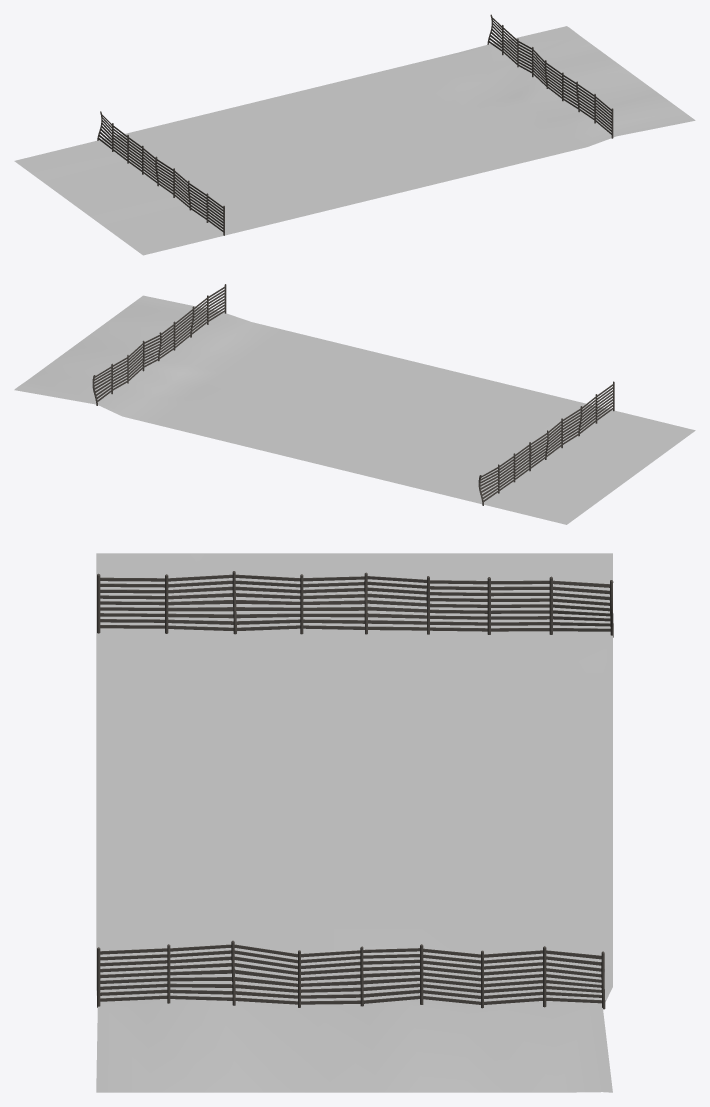
File: apartment_area.fbx
3 renders of one model, top to bottom at view 1: azimuth 30°, elevation 25°; view 2: azimuth 150°, elevation 25°; view 3: azimuth 270°, elevation 25°, orthographic. The views are drawn at different scales.
Visible parts, largest first — view 1: apartment_block, metal_fence48; view 2: apartment_block, metal_fence48; view 3: apartment_block, metal_fence48.
Boxes of the visible parts, left/top/right/bottom form: apartment_block: left=14, top=26, right=695, bottom=255; metal_fence48: left=97, top=14, right=613, bottom=235; apartment_block: left=14, top=295, right=695, bottom=524; metal_fence48: left=92, top=284, right=614, bottom=505; apartment_block: left=96, top=553, right=612, bottom=1092; metal_fence48: left=97, top=571, right=613, bottom=1009.
Bounding box in the file's own units: 2100 × 138 × 851.
